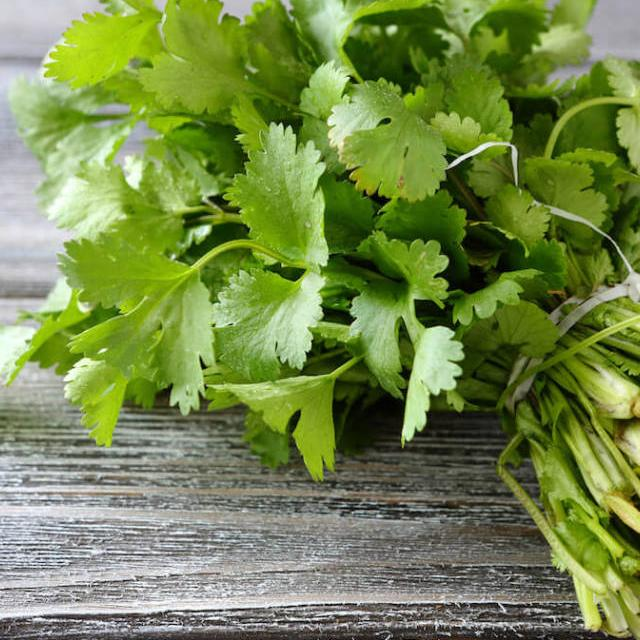cilantro: (0, 0, 640, 631)
